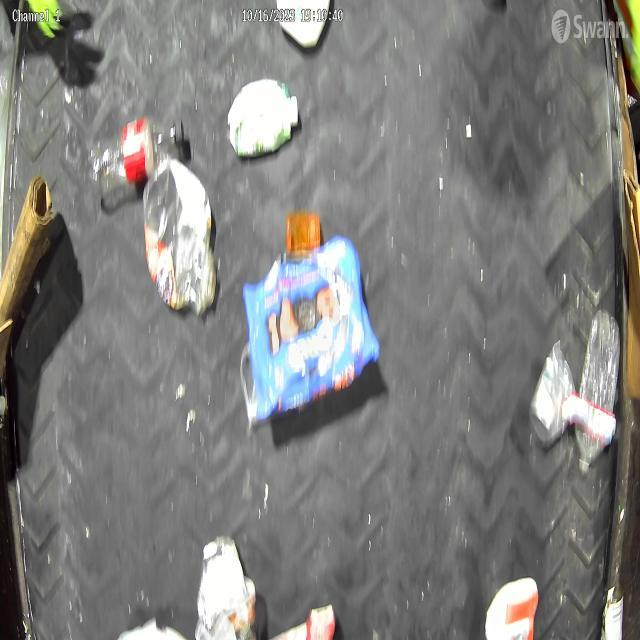can: (529, 336, 578, 448), (602, 581, 626, 640), (305, 601, 337, 640)
plastic_bottle: (140, 156, 218, 320), (572, 304, 624, 474), (88, 112, 185, 200)
